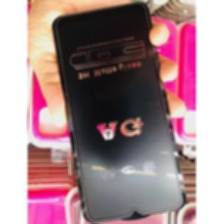phone: (47, 0, 188, 223)
